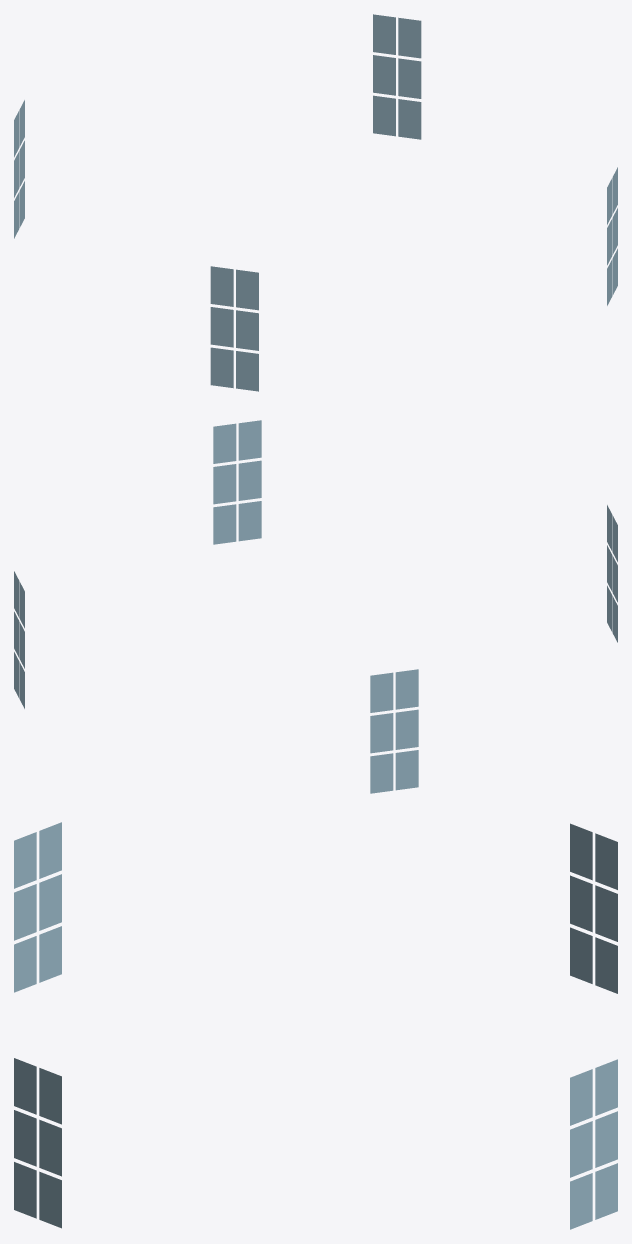
File: FairyTale159.gltf
The picture shows the model from 3 angles, top to bottom: view 1: azimuth 30°, elevation 25°; view 2: azimuth 150°, elevation 25°; view 3: azimuth 270°, elevation 25°; orthographic projection. The views are drawn at different scales.
Visible parts, largest first — view 1: Windmill_Glass; view 2: Windmill_Glass; view 3: Windmill_Glass.
Boxes of the visible parts, left/top/right/bottom form: Windmill_Glass: left=14, top=14, right=617, bottom=391; Windmill_Glass: left=14, top=420, right=617, bottom=793; Windmill_Glass: left=14, top=822, right=617, bottom=1229.
Bounding box in the file's own units: 3.01 × 0.8361 × 3.01.
